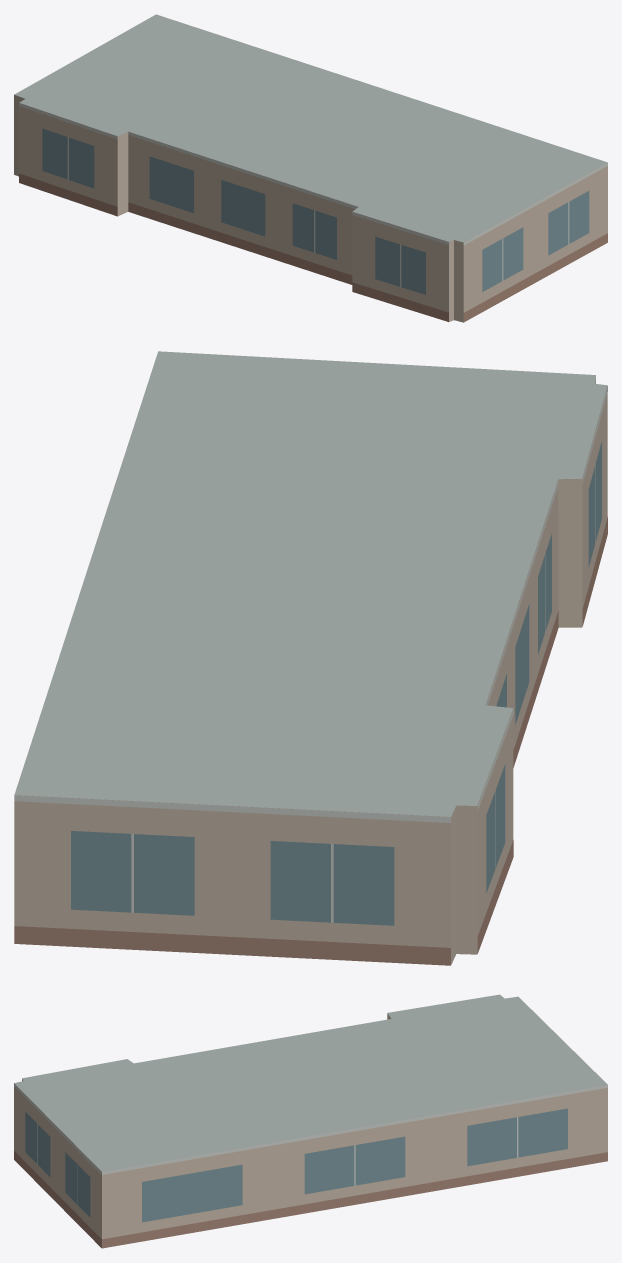
Rendered from survey-upis-32766903.glb.
The picture shows the model from 3 angles, top to bottom: view 1: azimuth 30°, elevation 25°; view 2: azimuth 150°, elevation 25°; view 3: azimuth 270°, elevation 25°; orthographic projection. The views are drawn at different scales.
Parts seen in each view (by area): view 1: survey-upis-32766903.tmp; view 2: survey-upis-32766903.tmp; view 3: survey-upis-32766903.tmp.
Boxes of the visible parts, box(x1,y1,x2,y2) form: survey-upis-32766903.tmp: box(14, 14, 607, 322); survey-upis-32766903.tmp: box(14, 351, 607, 965); survey-upis-32766903.tmp: box(14, 994, 607, 1248).
Bounding box in the file's own units: 15.16 × 3.05 × 21.43.
